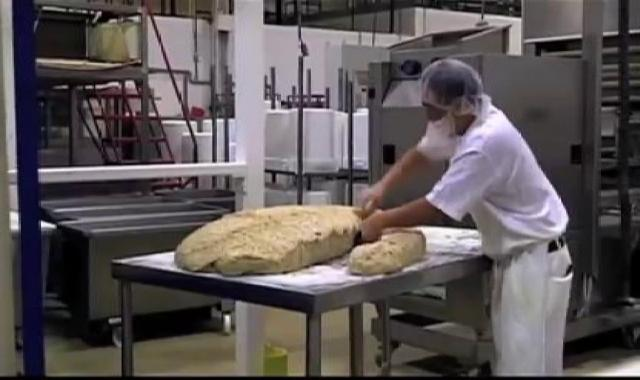hairnet: (411, 56, 491, 116)
